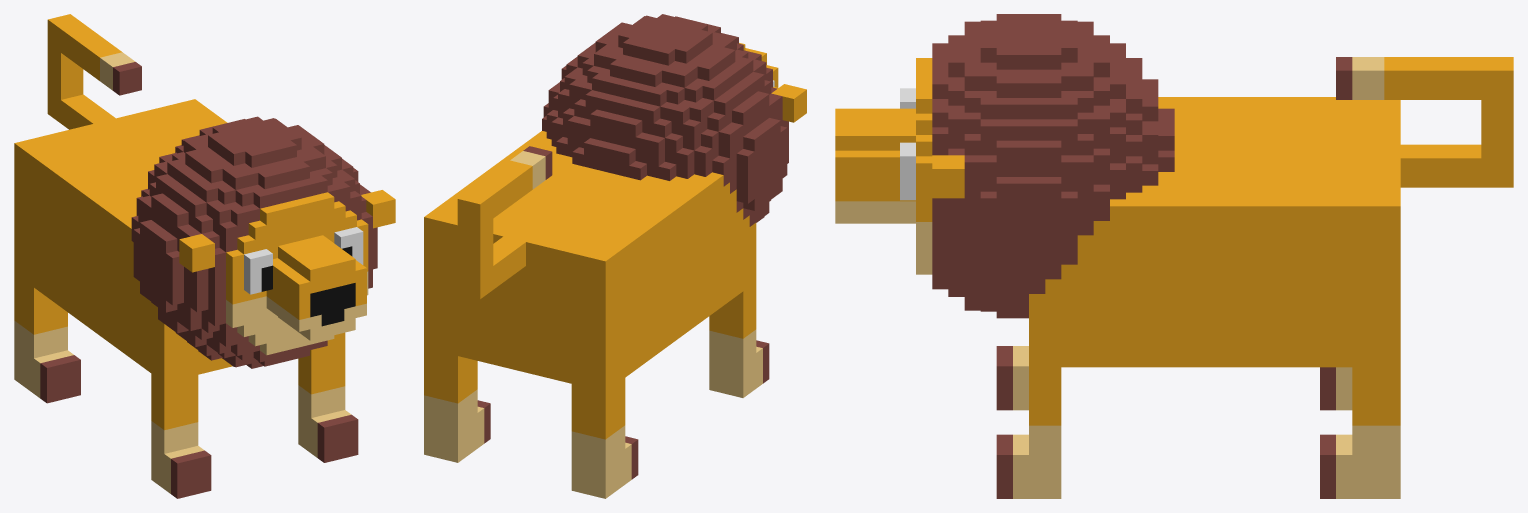
File: Lion.obj
3 renders of one model, left to right at view 1: azimuth 30°, elevation 25°; view 2: azimuth 150°, elevation 25°; view 3: azimuth 270°, elevation 25°, orthographic. The views are drawn at different scales.
Parts seen in each view (by area): view 1: Lion; view 2: Lion; view 3: Lion.
Part boxes in pixels (x1,y1,x2,y2): Lion: (14,14,395,498); Lion: (424,14,806,498); Lion: (835,14,1513,498).
Bounding box in the file's own units: 18 × 28 × 42.
1 material, 1 textured.
